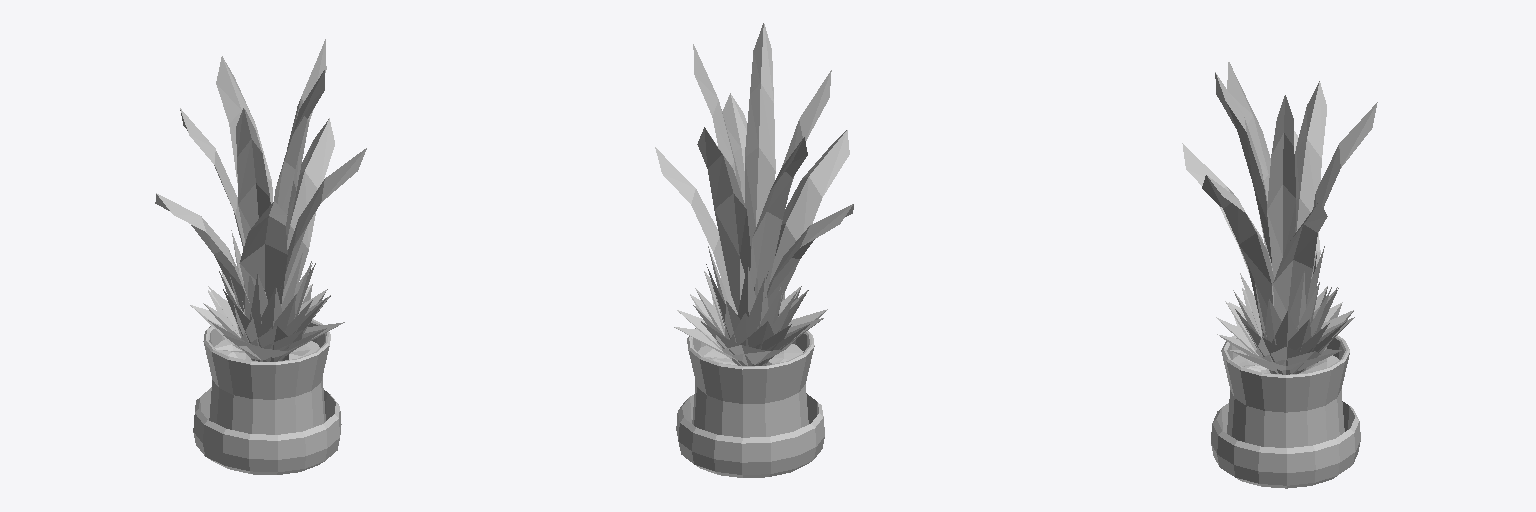
Rendered from Indoor+plant_3_BI_blend.obj.
3 views of the same model, side by side, from view 1: azimuth 30°, elevation 25°; view 2: azimuth 150°, elevation 25°; view 3: azimuth 270°, elevation 25° (orthographic).
Parts seen in each view (by area): view 1: Low-Poly_Plant_.001_Cube.000, Low-Poly_Plant__Cube.055; view 2: Low-Poly_Plant_.001_Cube.000, Low-Poly_Plant__Cube.055; view 3: Low-Poly_Plant_.001_Cube.000, Low-Poly_Plant__Cube.055.
Part boxes in pixels (x1,y1,x2,y2): Low-Poly_Plant_.001_Cube.000: (155, 39, 366, 361); Low-Poly_Plant__Cube.055: (193, 319, 341, 474); Low-Poly_Plant_.001_Cube.000: (655, 23, 853, 365); Low-Poly_Plant__Cube.055: (676, 328, 824, 477); Low-Poly_Plant_.001_Cube.000: (1182, 62, 1377, 374); Low-Poly_Plant__Cube.055: (1211, 335, 1360, 488).
Size of the model in its own units: 0.6533 by 1.35 by 0.5929.